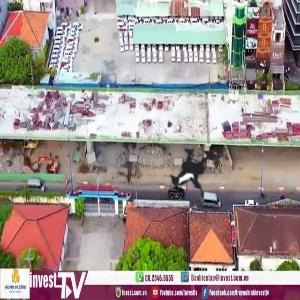drone: (135, 109, 250, 224)
